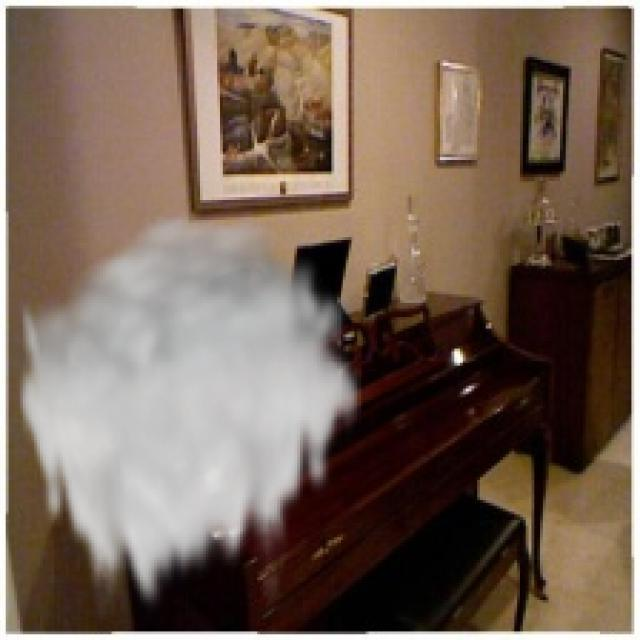Smoke: (14, 205, 366, 620)
